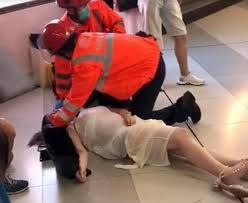fall: (48, 92, 248, 196)
